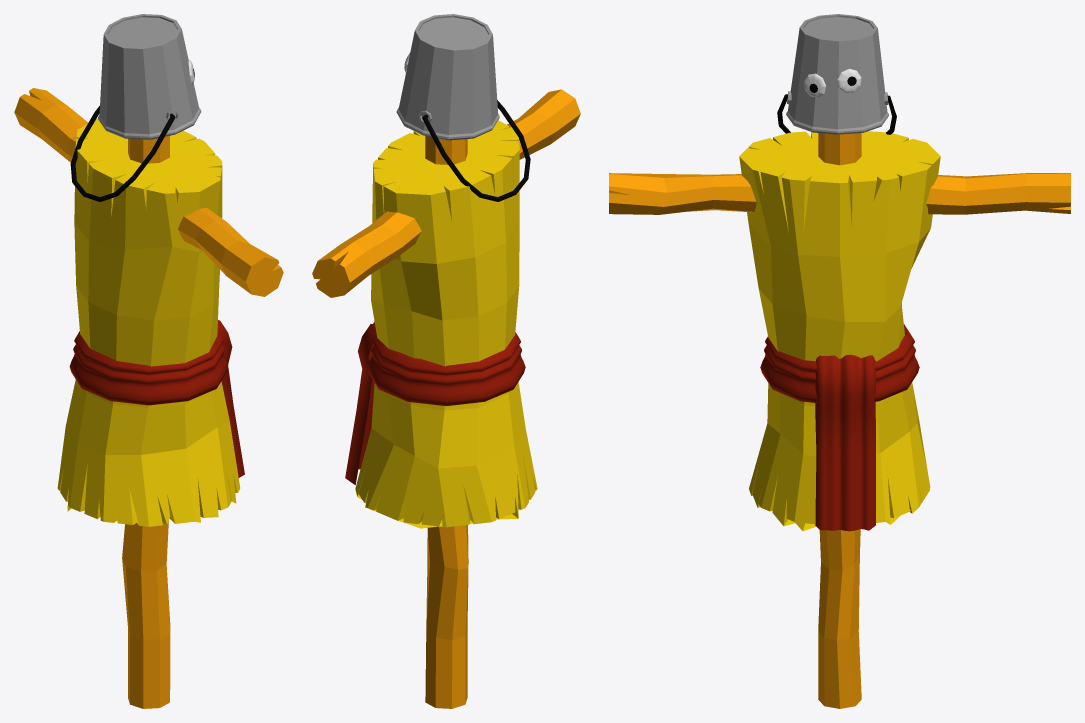
The model's file is Dummy.fbx.
3 renders of one model, left to right at view 1: azimuth 30°, elevation 25°; view 2: azimuth 150°, elevation 25°; view 3: azimuth 270°, elevation 25°, orthographic.
Parts seen in each view (by area): view 1: Cylinder.003, Cylinder.005; view 2: Cylinder.003, Cylinder.005; view 3: Cylinder.003, Cylinder.005.
Part boxes in pixels (x1,y1,x2,y2): Cylinder.003: [14, 88, 283, 708]; Cylinder.005: [70, 14, 201, 201]; Cylinder.003: [312, 89, 580, 708]; Cylinder.005: [396, 14, 530, 201]; Cylinder.003: [609, 131, 1070, 708]; Cylinder.005: [777, 14, 896, 134].
Size of the model in its own units: 79.92 by 306 by 191.
